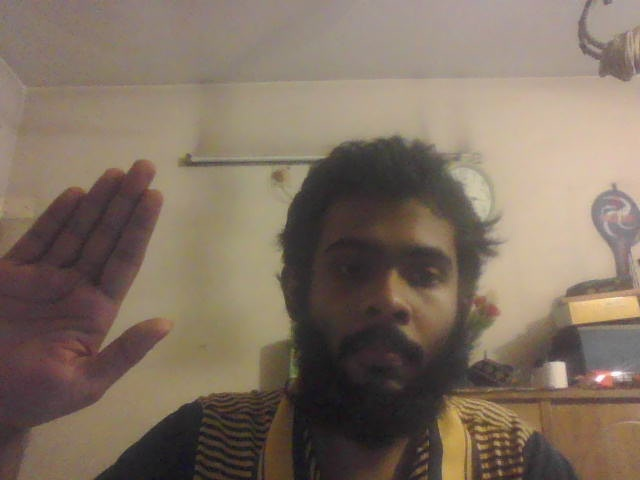Hello: (3, 164, 181, 435)
